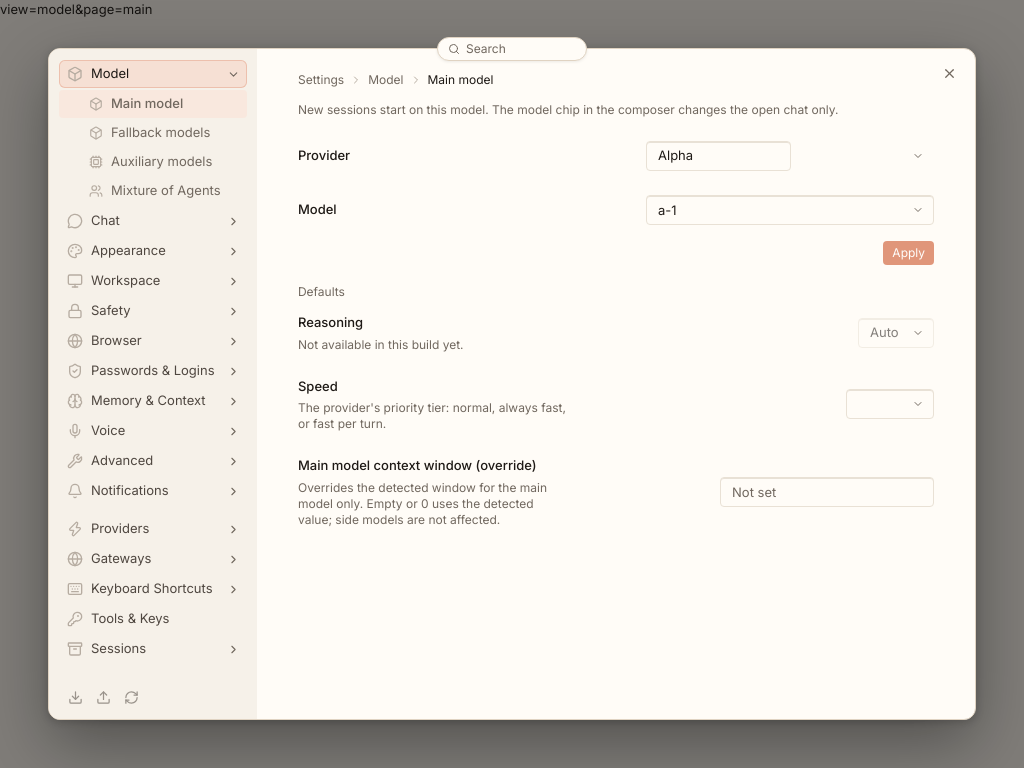
Test: settings slice A › main model: Apply posts the new pair; Defaults keep their schema rows
Expected: the button "Apply" is disabled, [883, 241, 934, 265]
Replace the text in the dropdown named "Model" with "a-2" at (790, 210), box [646, 195, 934, 225]
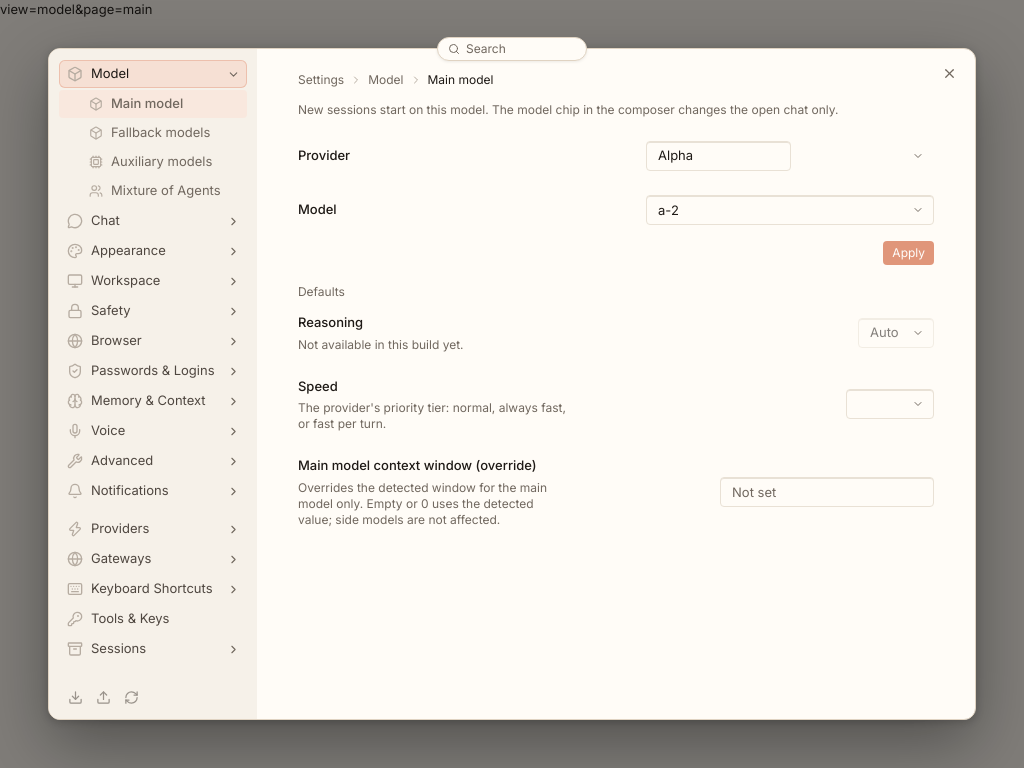
Leave the dropdown named "Model", box [646, 195, 934, 225]
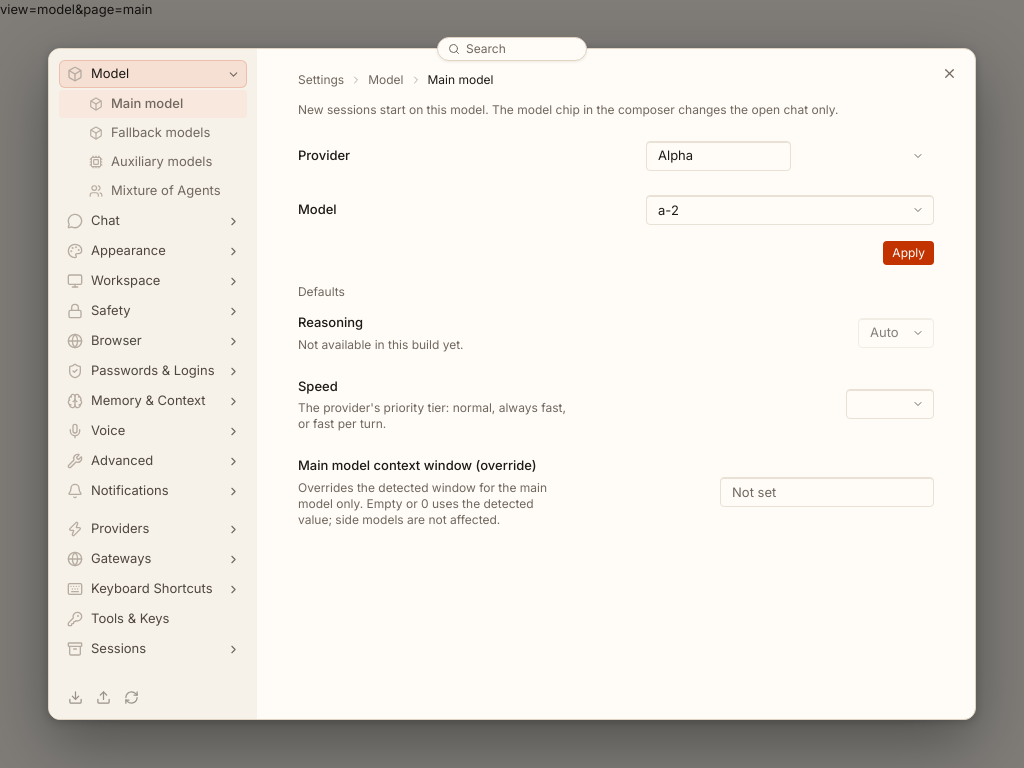
Expected: the button "Apply" is enabled
Click the button "Apply" at (909, 253), box [883, 241, 934, 265]
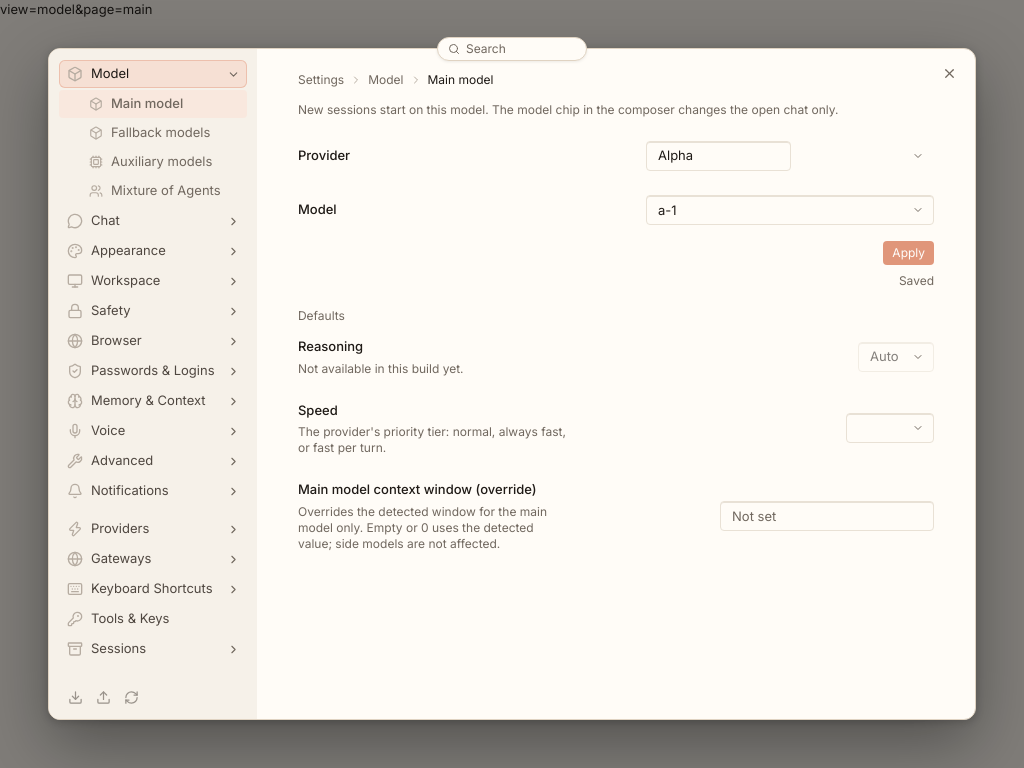
Expected: the dropdown labelled "Speed" is shown, [846, 413, 934, 443]
Expected: the field labelled "Main model context window (override)" is shown, [720, 501, 934, 531]
